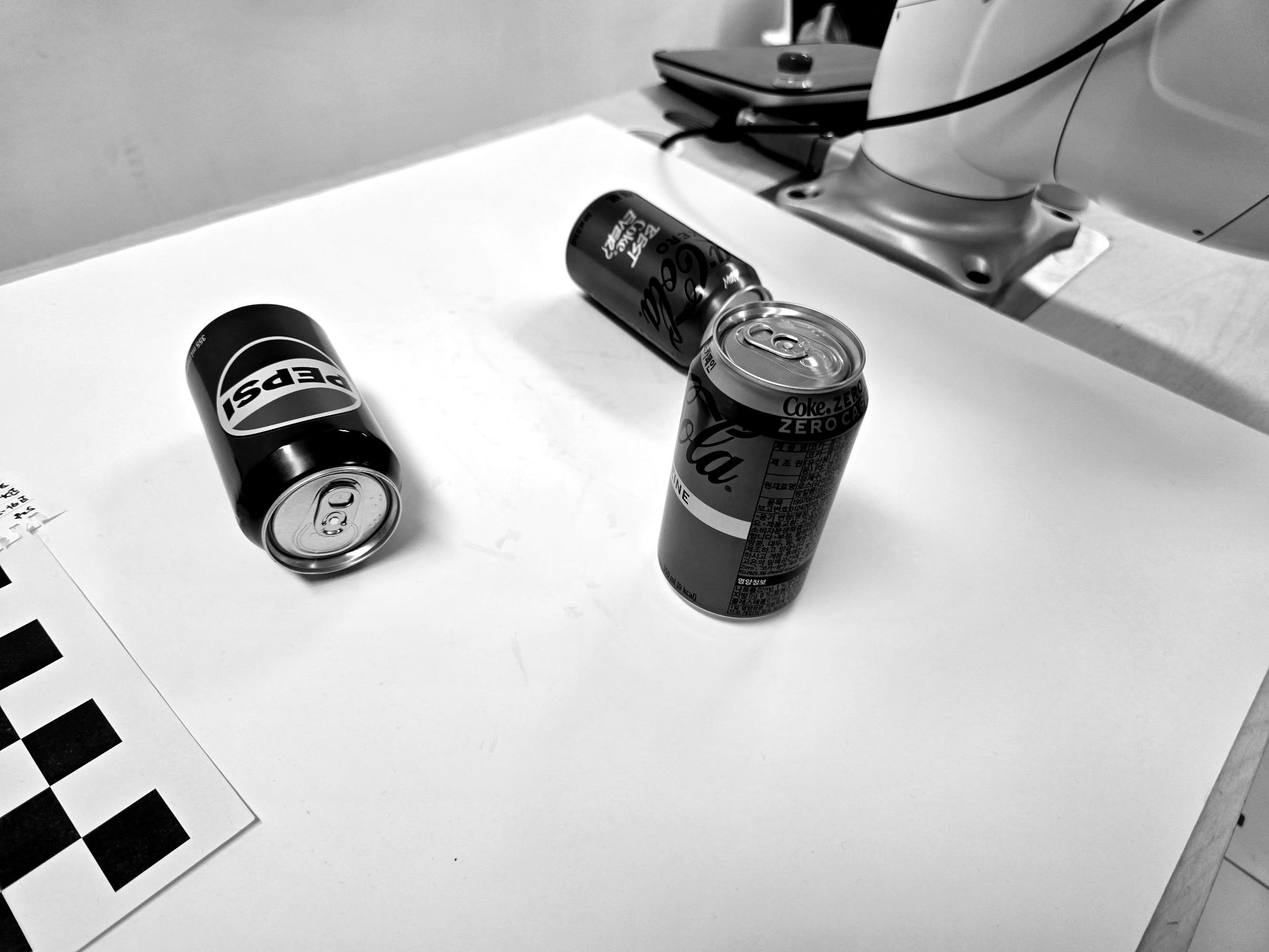can_coke_decaf: (655, 302, 869, 618)
can_coke_zero: (567, 185, 775, 369)
can_pepsi: (183, 303, 406, 578)
